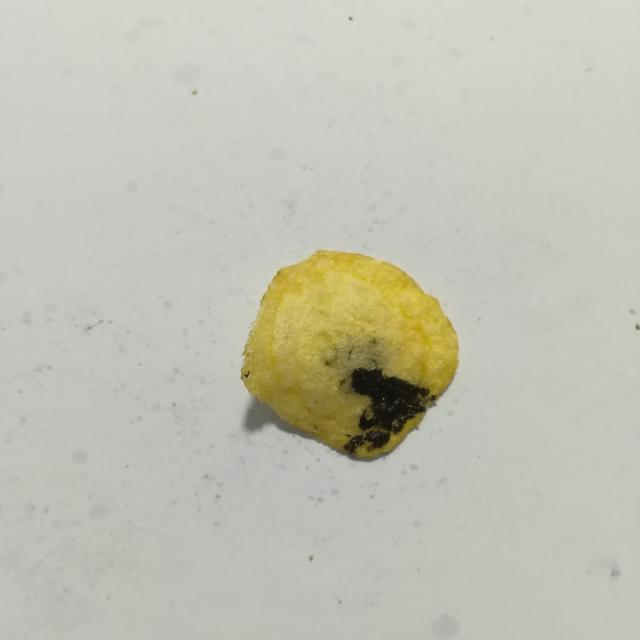chip: (241, 251, 458, 458)
damaged: (346, 368, 435, 452), (244, 371, 249, 378), (346, 434, 351, 438)
semi-damaged: (325, 333, 385, 396)
